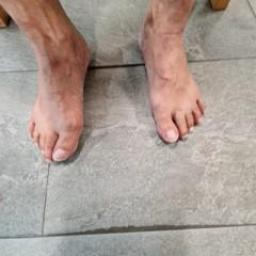Dorsal View -Both Feet-: (3, 3, 221, 177)
